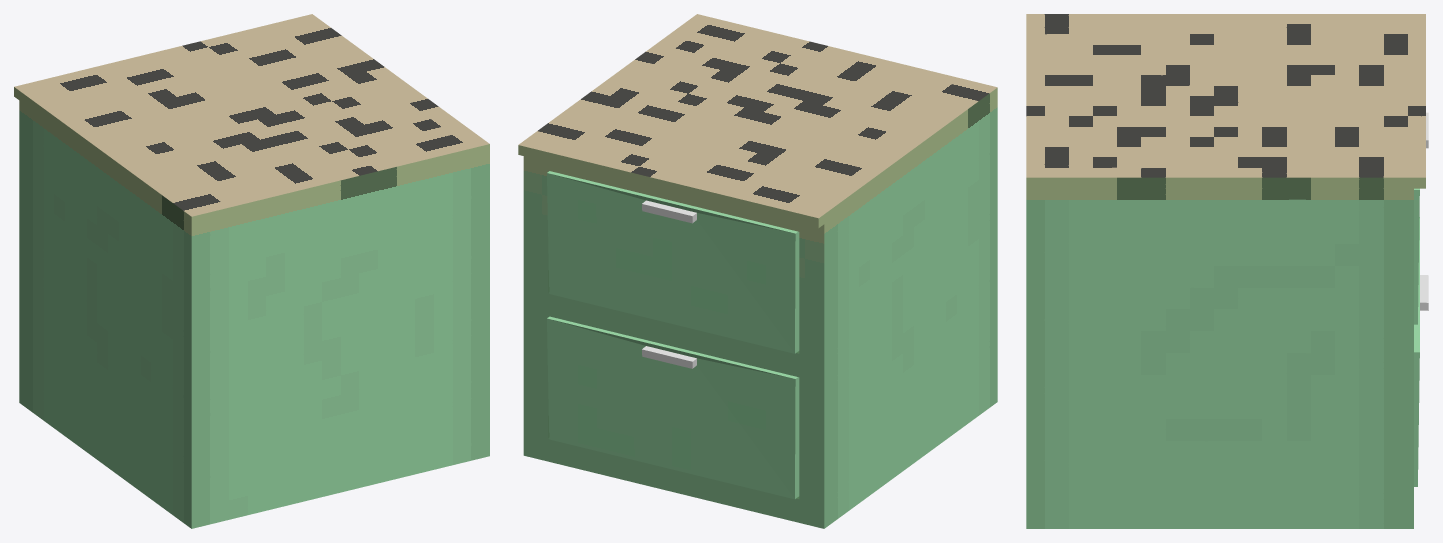
File: Kitchenette Drawer.gltf
3 views of the same model, side by side, from view 1: azimuth 30°, elevation 25°; view 2: azimuth 150°, elevation 25°; view 3: azimuth 270°, elevation 25° (orthographic). The views are drawn at different scales.
Visible parts, largest first — view 1: cuboid; view 2: cuboid (×3); view 3: cuboid (×3).
Part boxes in pixels (left/top/right/bottom): cuboid: left=14, top=14, right=489, bottom=528; cuboid (×3): left=518, top=14, right=997, bottom=528; cuboid (×3): left=1026, top=14, right=1428, bottom=528.
Bounding box in the file's own units: 1 × 1 × 1.04.
1 material, 1 textured.
